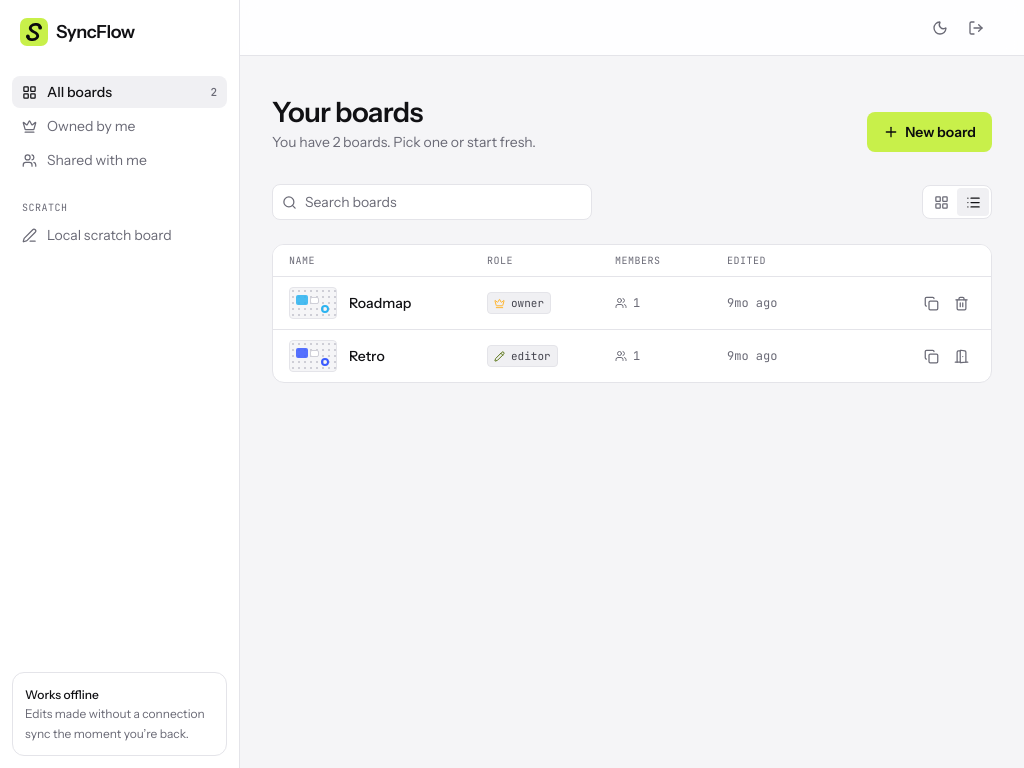
Scenario: DashboardPage layout and narrowing › narrows by search and by ownership, and says when nothing matches
Expected: the text "Roadmap" is shown, x1=349 y1=293 x2=411 y2=313
Step 1. Type "retro" into the search field labelled "Search boards" → [432, 202], box x1=272 y1=184 x2=592 y2=220
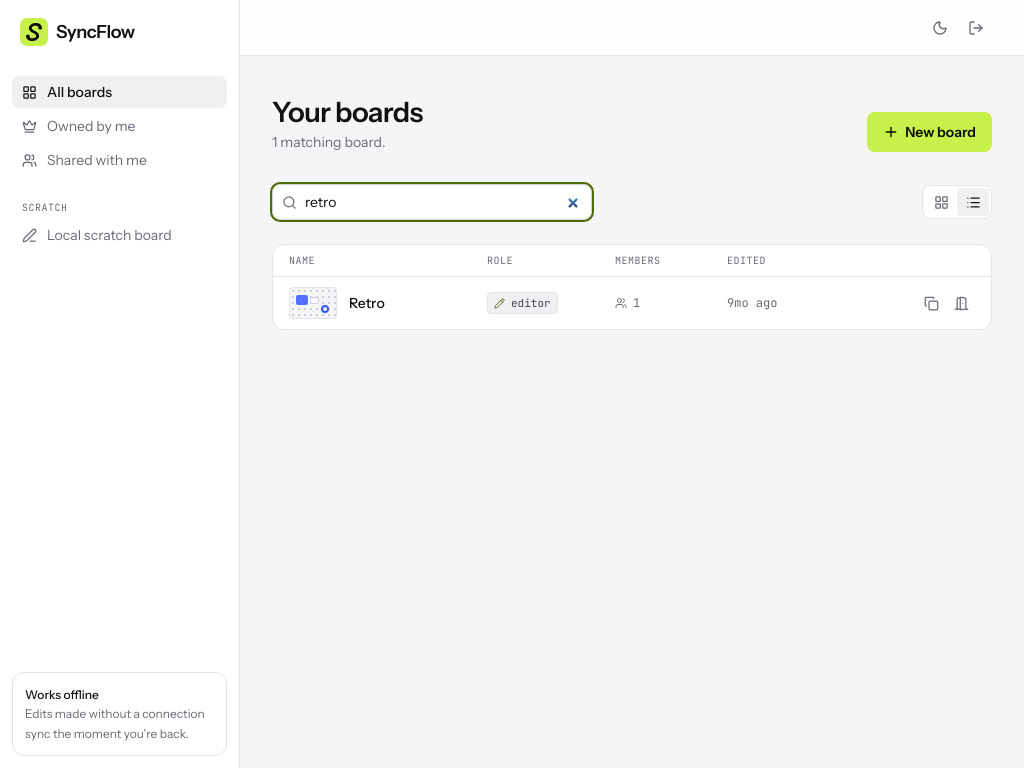
Expected: the text "Retro" is shown, x1=349 y1=293 x2=385 y2=313
Expected: the text "Roadmap" is gone
Step 2. Click the button "Owned by me" → [120, 126], box x1=12 y1=110 x2=227 y2=142
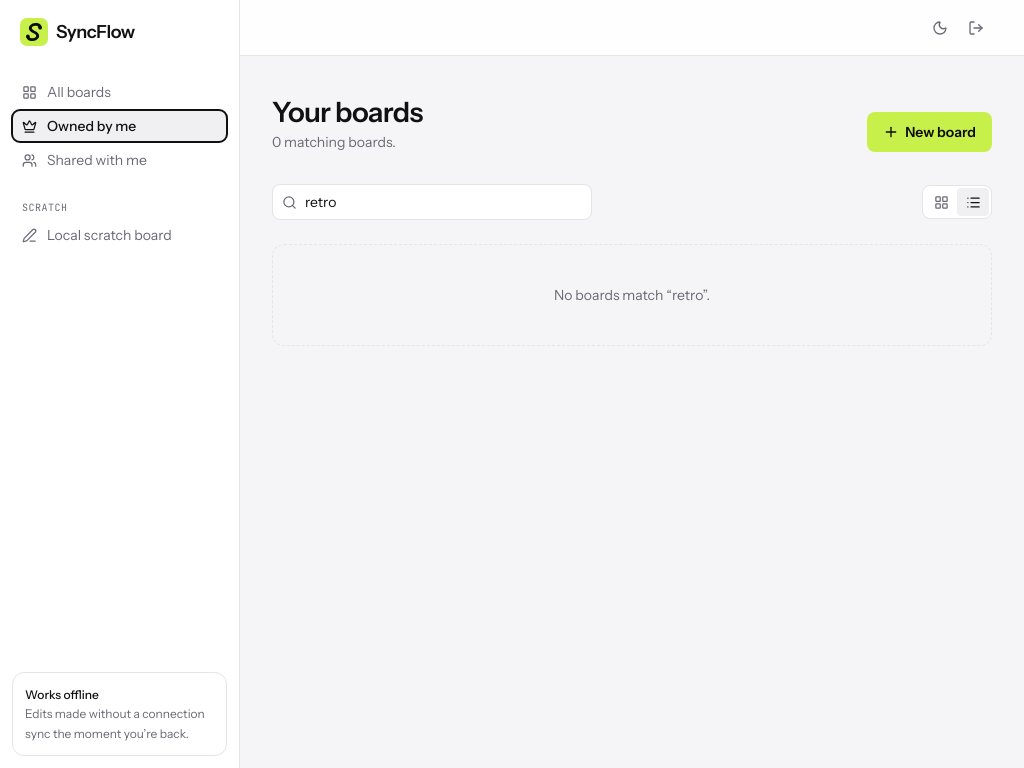
Expected: the text "No boards match “retro”." is shown, x1=272 y1=244 x2=992 y2=346
